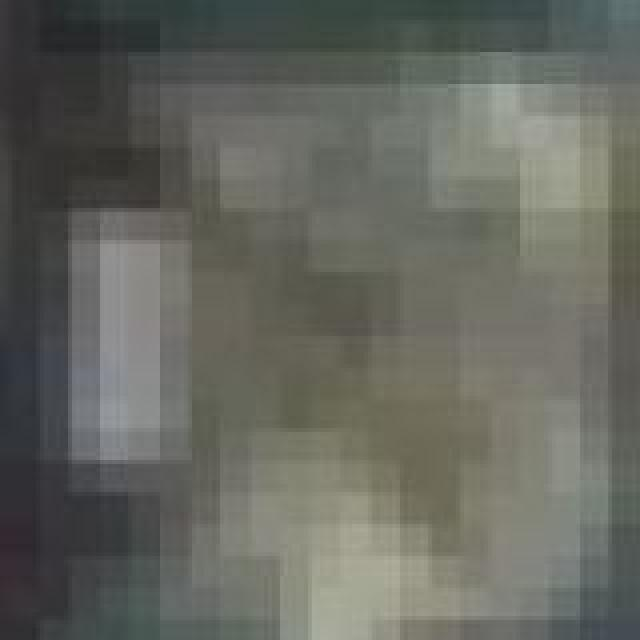transistor: (0, 0, 444, 640)
